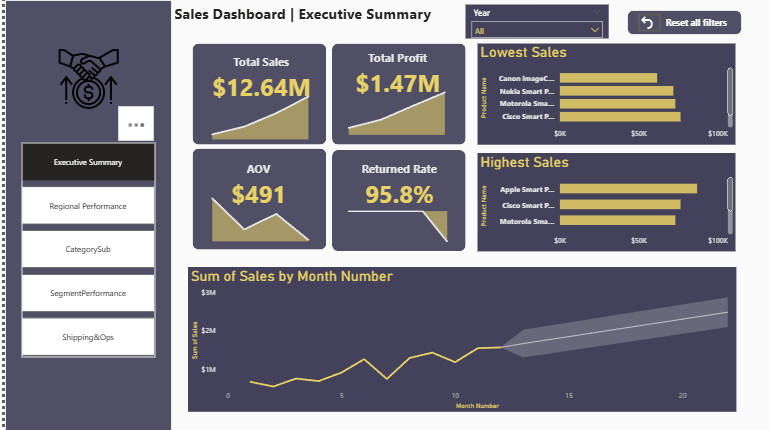

The page's visual inventory and layout, read from the dashboard file:
{"tool":"powerbi","page":{"name":"Executive Summary","canvas":[1280,720],"ordinal":0},"visuals":[{"type":"shape","box":[1038.6,17.1,190,40],"z":0},{"type":"shape","box":[0,0,277.6,1400.7],"z":1000,"group":"g2"},{"type":"group","id":"g1","title":"Group 4","box":[544.3,250,222.9,168.6],"z":1000},{"type":"shape","box":[312.9,72.9,222.9,168.6],"z":2000},{"type":"pageNavigator","box":[27.1,237.1,222.9,358.6],"z":2000,"group":"g2"},{"type":"lineChart","fields":{"Y":["Sum(Orders.Sales)"],"Category":["Date Table.Month Number"]},"box":[304.3,445.7,914.3,241.4],"z":3000},{"type":"shape","box":[544.3,250,222.9,168.6],"z":4000,"group":"g1"},{"type":"clusteredBarChart","title":"Highest Sales","fields":{"Category":["Orders.Product Name"],"Y":["Sum(Orders.Sales)"]},"box":[788.6,254.3,430,164.3],"z":4000},{"type":"shape","box":[544.3,72.9,222.9,168.6],"z":5000},{"type":"shape","box":[312.6,248.5,222.9,168.6],"z":6000},{"type":"card","title":"Returned Rate","fields":{"Values":["All Measures.Converted Customers"]},"box":[558.1,267.1,194.3,84.3],"z":6000,"group":"g1"},{"type":"clusteredBarChart","title":"Lowest Sales","fields":{"Category":["Orders.Product Name"],"Y":["Sum(Orders.Sales)"]},"box":[788.6,72.9,430,168.6],"z":7000},{"type":"card","title":"Total Sales","fields":{"Values":["All Measures.Total Sales"]},"box":[329.1,90.3,194.2,83.5],"z":8000},{"type":"card","title":"AOV","fields":{"Values":["All Measures.Avg Order Value"]},"box":[326.2,267,195.1,84.5],"z":9000},{"type":"textbox","box":[278.6,0,488.6,72.9],"z":10000},{"type":"image","box":[64.3,75.7,148.6,112.9],"z":10001,"group":"g2"},{"type":"slicer","fields":{"Values":["Date Table.Year"]},"box":[768.3,8.3,238.3,56.7],"z":11000},{"type":"actionButton","box":[1055.4,21.5,37.7,30],"z":12000},{"type":"card","title":"Total Profit","fields":{"Values":["All Measures.Total Profit"]},"box":[558.3,82.5,194.2,84.5],"z":13000},{"type":"textbox","box":[1084.3,21.4,134.3,30],"z":14000},{"type":"group","id":"g2","title":"Group 1","box":[0,0,277.6,1400.7],"z":15000},{"type":"areaChart","fields":{"Y":["Sum(Orders.Sales)"],"Category":["Date Table.Year"]},"box":[331.1,124.3,190.3,112.6],"z":16000},{"type":"areaChart","fields":{"Y":["All Measures.Total Profit"],"Category":["Date Table.Year"]},"box":[558.3,117.5,190.3,112.6],"z":17000},{"type":"areaChart","fields":{"Y":["All Measures.Avg Order Value"],"Category":["Date Table.Year"]},"box":[329.1,295.1,190.3,112.6],"z":18000},{"type":"areaChart","fields":{"Y":["All Measures.Converted Customers"],"Category":["Date Table.Year"]},"box":[558.3,336.9,194.2,70.9],"z":19000}]}

Visuals, with their boxes in screenshot pixels (x1, y1, x2, y2), scaled from the page's 1280x720 canvas onto the 769x430 screenshot:
shape: (x1=624, y1=10, x2=738, y2=34)
shape: (x1=0, y1=0, x2=167, y2=429)
"Group 4" group: (x1=327, y1=149, x2=461, y2=250)
shape: (x1=188, y1=44, x2=322, y2=144)
pageNavigator: (x1=16, y1=142, x2=150, y2=356)
lineChart - Sum(Orders.Sales) x Date Table.Month Number: (x1=183, y1=266, x2=732, y2=410)
shape: (x1=327, y1=149, x2=461, y2=250)
"Highest Sales" clusteredBarChart: (x1=474, y1=152, x2=732, y2=250)
shape: (x1=327, y1=44, x2=461, y2=144)
shape: (x1=188, y1=148, x2=322, y2=249)
"Returned Rate" card: (x1=335, y1=160, x2=452, y2=210)
"Lowest Sales" clusteredBarChart: (x1=474, y1=44, x2=732, y2=144)
"Total Sales" card: (x1=198, y1=54, x2=314, y2=104)
"AOV" card: (x1=196, y1=159, x2=313, y2=210)
textbox: (x1=167, y1=0, x2=461, y2=44)
image: (x1=39, y1=45, x2=128, y2=113)
slicer - Date Table.Year: (x1=462, y1=5, x2=605, y2=39)
actionButton: (x1=634, y1=13, x2=657, y2=31)
"Total Profit" card: (x1=335, y1=49, x2=452, y2=100)
textbox: (x1=651, y1=13, x2=732, y2=31)
"Group 1" group: (x1=0, y1=0, x2=167, y2=429)
areaChart - Sum(Orders.Sales) x Date Table.Year: (x1=199, y1=74, x2=313, y2=141)
areaChart - All Measures.Total Profit x Date Table.Year: (x1=335, y1=70, x2=450, y2=137)
areaChart - All Measures.Avg Order Value x Date Table.Year: (x1=198, y1=176, x2=312, y2=243)
areaChart - All Measures.Converted Customers x Date Table.Year: (x1=335, y1=201, x2=452, y2=244)
